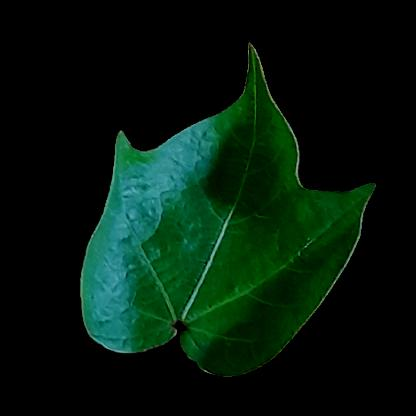healthy: (154, 154, 284, 326)
